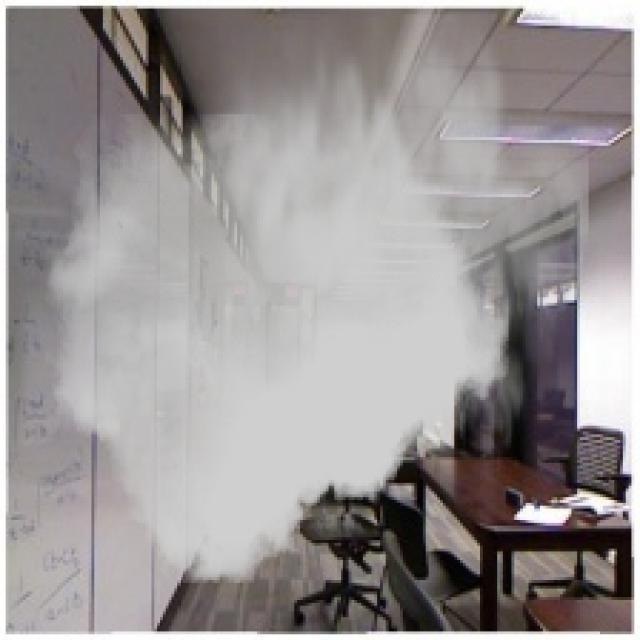Smoke: (46, 14, 588, 583)
